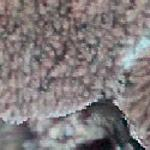alive: (6, 2, 147, 146)
